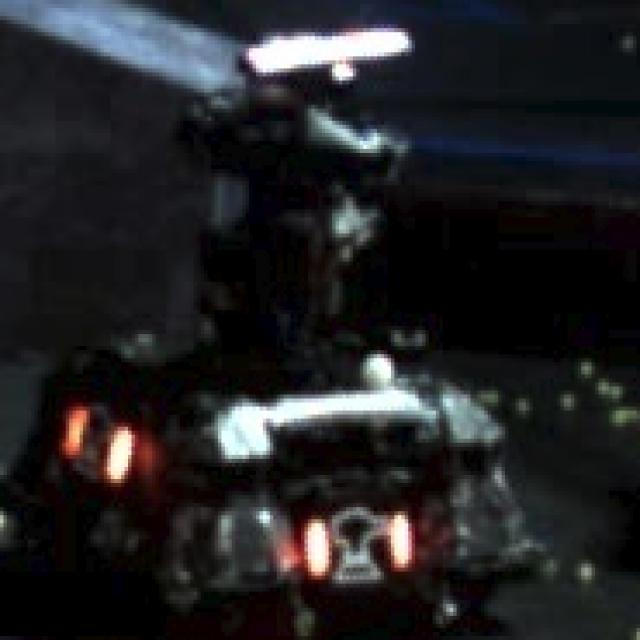Rs: (301, 499, 412, 596), (55, 395, 142, 491)
